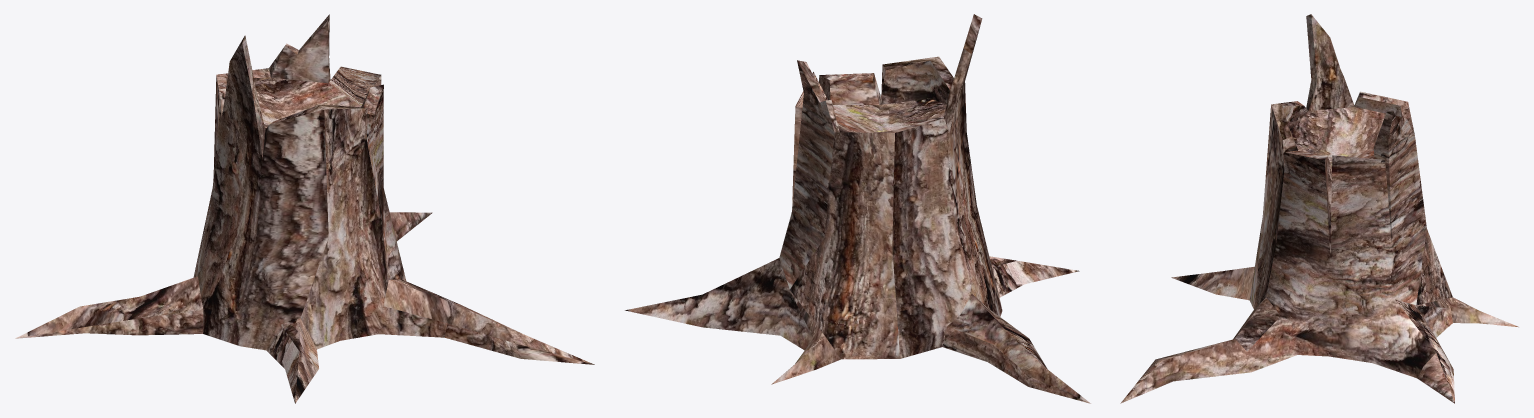
Rendered from FBX_Stump.fbx.
3 renders of one model, left to right at view 1: azimuth 30°, elevation 25°; view 2: azimuth 150°, elevation 25°; view 3: azimuth 270°, elevation 25°, orthographic. The views are drawn at different scales.
Visible parts, largest first — view 1: tree5; view 2: tree5; view 3: tree5.
Part boxes in pixels (<box>): tree5: <box>15,14,594,403</box>; tree5: <box>625,14,1090,403</box>; tree5: <box>1120,14,1518,403</box>.
Bounding box in the file's own units: 397 × 269 × 345.
